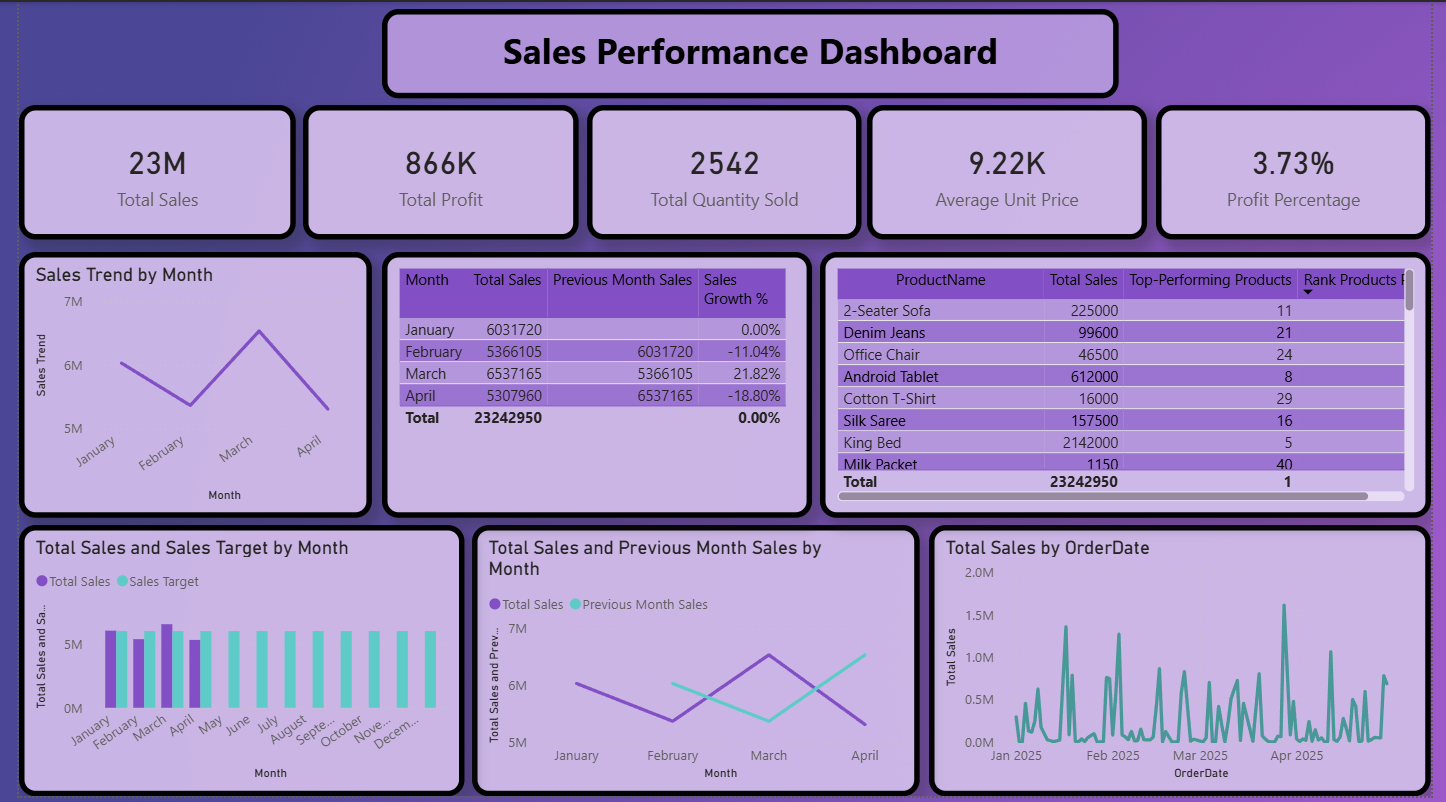

What the dashboard file says about the page in this screenshot:
{"tool":"powerbi","page":{"name":"Page 1","canvas":[1280,720],"ordinal":0},"visuals":[{"type":"card","fields":{"Values":["DimProduct.Total Sales"]},"box":[0,0,243,155.1],"z":0},{"type":"card","fields":{"Values":["DimProduct.Total Profit"]},"box":[249.4,0,250.3,155.1],"z":1000},{"type":"card","fields":{"Values":["DimProduct.Total Quantity Sold"]},"box":[506.9,0,249.4,155.1],"z":2000},{"type":"card","fields":{"Values":["DimProduct.Average Unit Price"]},"box":[767.2,0,253.9,155.1],"z":3000},{"type":"card","fields":{"Values":["DimProduct.Profit Percentage"]},"box":[1029.2,0,251.2,155.1],"z":4000},{"type":"lineChart","fields":{"Y":["DimProduct.Sales Trend"],"Category":["DateTable.Date.Variation.Date Hierarchy.Month"]},"box":[0,161.4,320.1,258.4],"z":5000},{"type":"lineChart","fields":{"Y":["DimProduct.Total Sales"],"Category":["FactSales.OrderDate.Variation.Date Hierarchy.Year"]},"box":[825.2,428.9,455.2,291.1],"z":6000},{"type":"lineChart","fields":{"Y":["DimProduct.Total Sales","DimProduct.Previous Month Sales"],"Category":["DateTable.Date.Variation.Date Hierarchy.Month"]},"box":[410.5,428.9,406.6,290.8],"z":7000},{"type":"tableEx","fields":{"Values":["DateTable.Date.Variation.Date Hierarchy.Month","DimProduct.Total Sales","DimProduct.Previous Month Sales","DateTable.Sales Growth %"]},"box":[328.3,161.4,389.9,258.4],"z":8000},{"type":"tableEx","fields":{"Values":["DimProduct.ProductName","DimProduct.Total Sales","DateTable.Product Rank","DateTable.Rank Products Profit"]},"box":[726.3,161.4,554.1,258.4],"z":9000},{"type":"clusteredColumnChart","fields":{"Y":["DimProduct.Total Sales","DateTable.Sales Target"],"Category":["DateTable.Date.Variation.Date Hierarchy.Month"]},"box":[0,428.9,403.5,291.1],"z":10000}]}

Visuals, with their boxes in screenshot pixels (x1, y1, x2, y2), scaled from the page's 1280x720 canvas onto the 1446x802 screenshot:
card - DimProduct.Total Sales: l=0, t=0, r=275, b=173
card - DimProduct.Total Profit: l=282, t=0, r=565, b=173
card - DimProduct.Total Quantity Sold: l=573, t=0, r=854, b=173
card - DimProduct.Average Unit Price: l=867, t=0, r=1154, b=173
card - DimProduct.Profit Percentage: l=1163, t=0, r=1445, b=173
lineChart - DimProduct.Sales Trend x DateTable.Date.Variation.Date Hierarchy.Month: l=0, t=180, r=362, b=468
lineChart - DimProduct.Total Sales x FactSales.OrderDate.Variation.Date Hierarchy.Year: l=932, t=478, r=1445, b=801
lineChart - DimProduct.Total Sales x DimProduct.Previous Month Sales: l=464, t=478, r=923, b=801
tableEx - DateTable.Date.Variation.Date Hierarchy.Month x DimProduct.Total Sales: l=371, t=180, r=811, b=468
tableEx - DimProduct.ProductName x DimProduct.Total Sales: l=820, t=180, r=1445, b=468
clusteredColumnChart - DimProduct.Total Sales x DateTable.Sales Target: l=0, t=478, r=456, b=801
